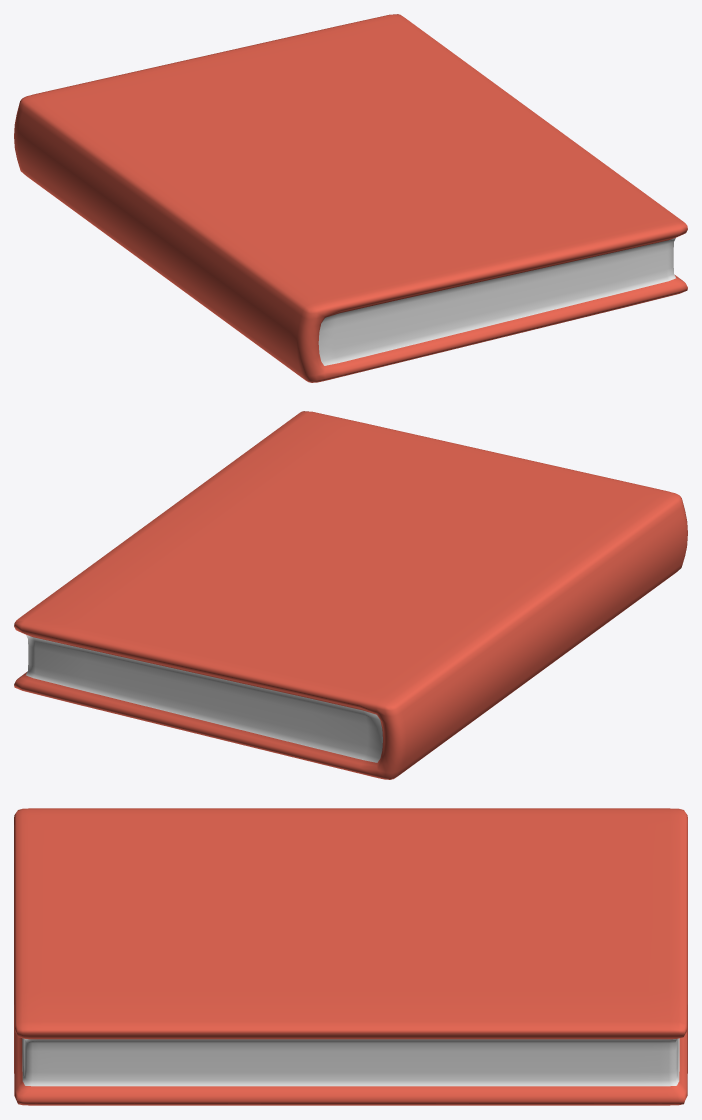
Rendered from bookClosed_1.fbx.
3 renders of one model, top to bottom at view 1: azimuth 30°, elevation 25°; view 2: azimuth 150°, elevation 25°; view 3: azimuth 270°, elevation 25°, orthographic. The views are drawn at different scales.
Visible parts, largest first — view 1: Cube; view 2: Cube; view 3: Cube.
Part boxes in pixels (left/top/right/bottom): Cube: left=14, top=14, right=687, bottom=382; Cube: left=14, top=411, right=687, bottom=779; Cube: left=14, top=808, right=687, bottom=1105.
Bounding box in the file's own units: 203 × 38.7 × 266.
